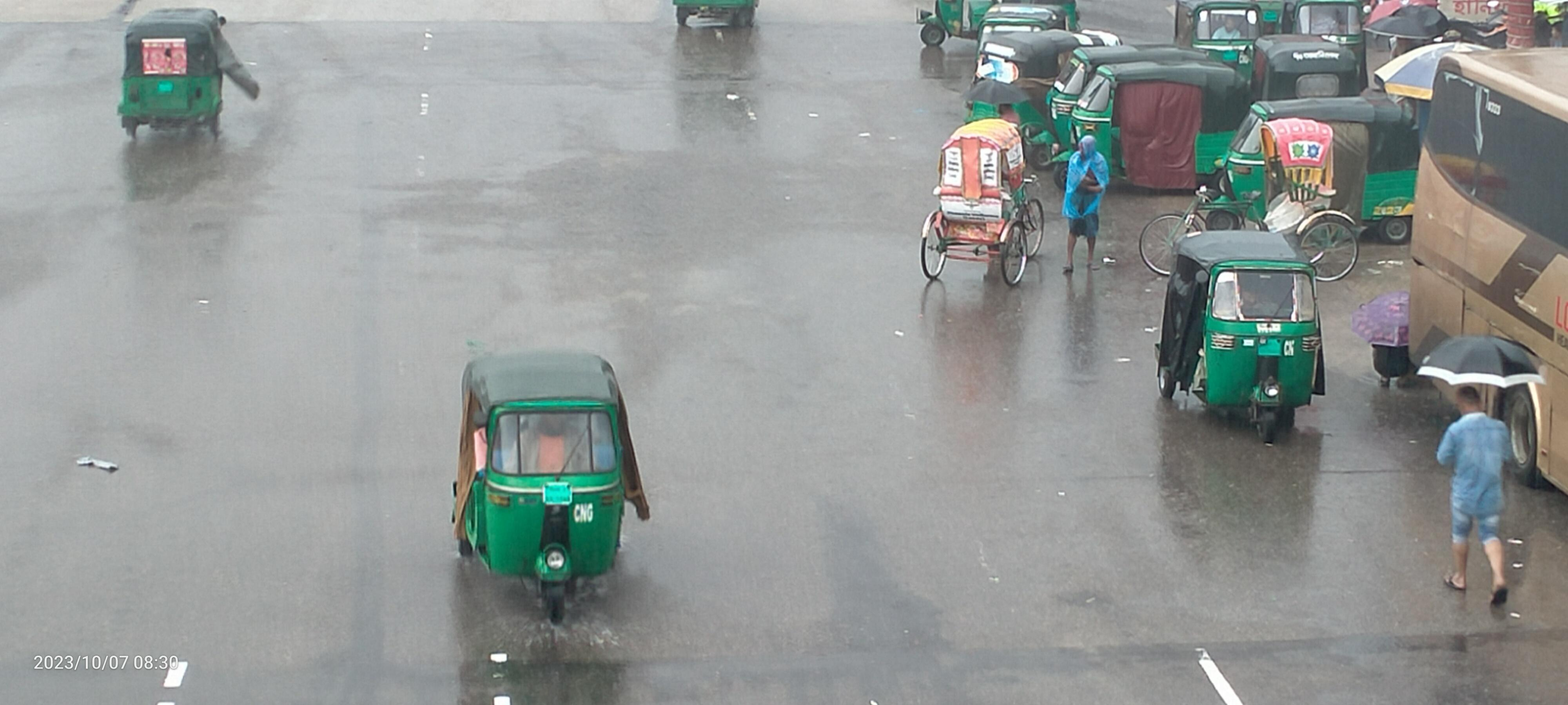Bus: (1391, 11, 1568, 537)
Car: (1120, 100, 1375, 293), (891, 88, 1068, 310)
